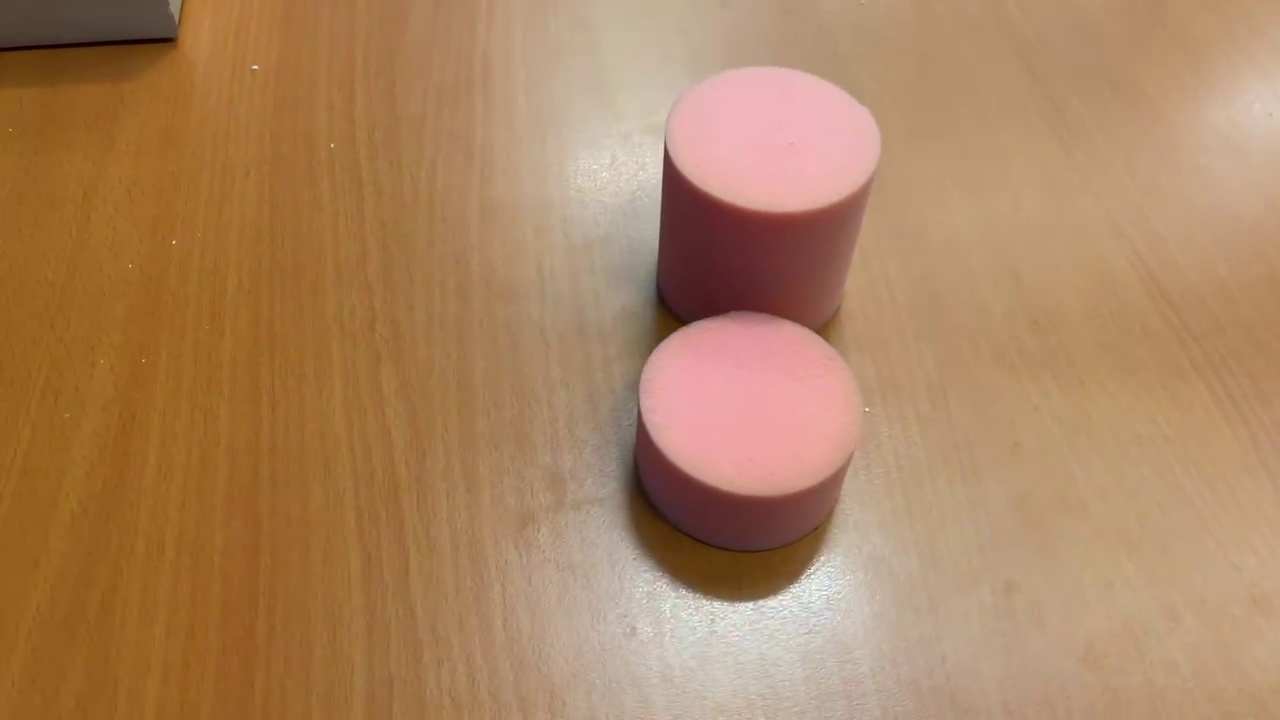Clyinder_short: (632, 305, 868, 557)
Cylinder: (652, 62, 890, 355)
